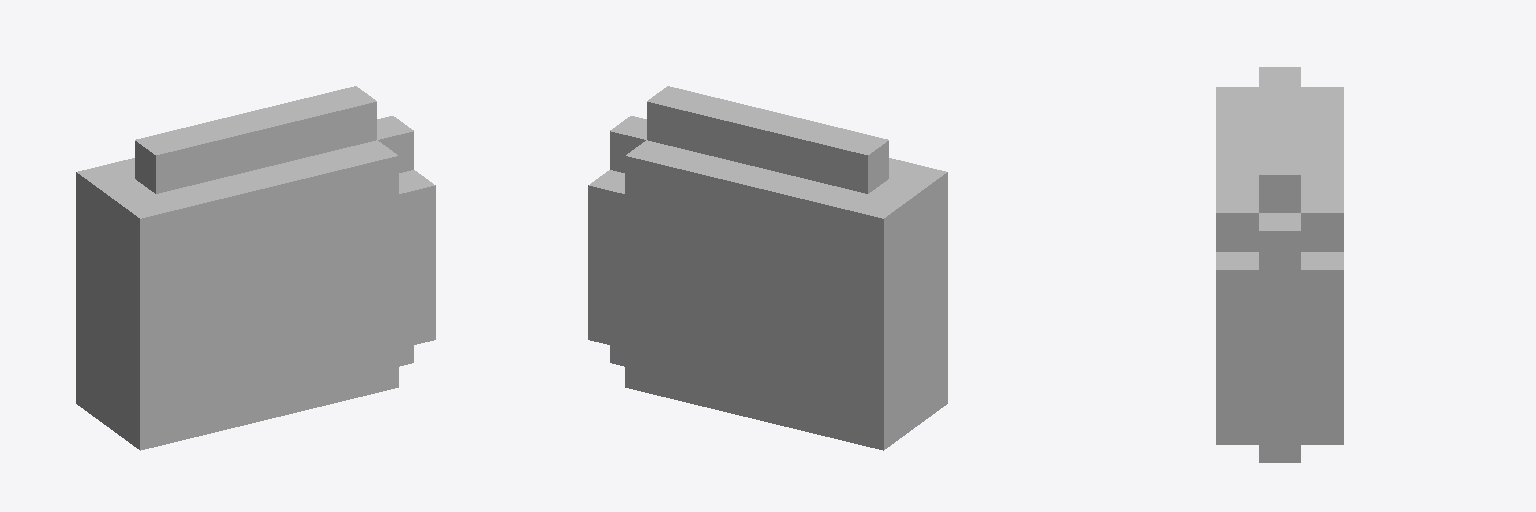
Rendered from Pez Payaso-1.obj.
The picture shows the model from 3 angles: view 1: azimuth 30°, elevation 25°; view 2: azimuth 150°, elevation 25°; view 3: azimuth 270°, elevation 25°; orthographic projection.
Parts seen in each view (by area): view 1: object 1; view 2: object 1; view 3: object 1.
Boxes of the visible parts, <box> form: object 1: <box>76,86,435,450</box>; object 1: <box>588,86,947,450</box>; object 1: <box>1216,67,1343,462</box>.
Bounding box in the file's own units: 0.8 × 0.7 × 0.3.